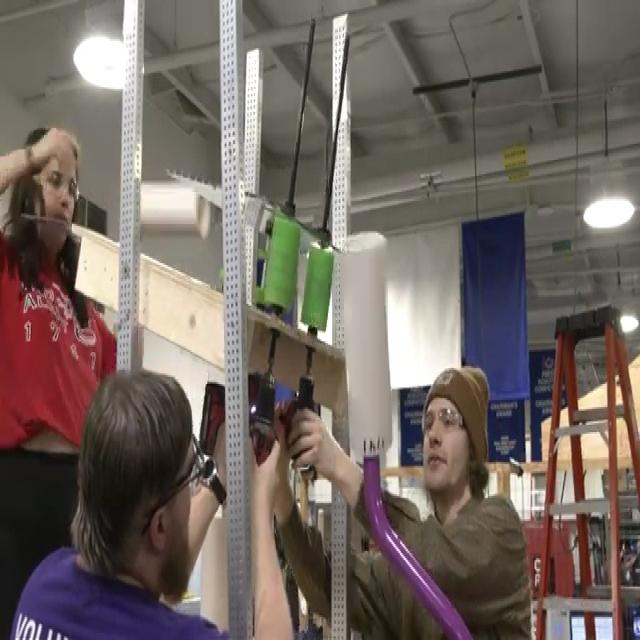Coral: (340, 234, 393, 457), (140, 182, 210, 240)
